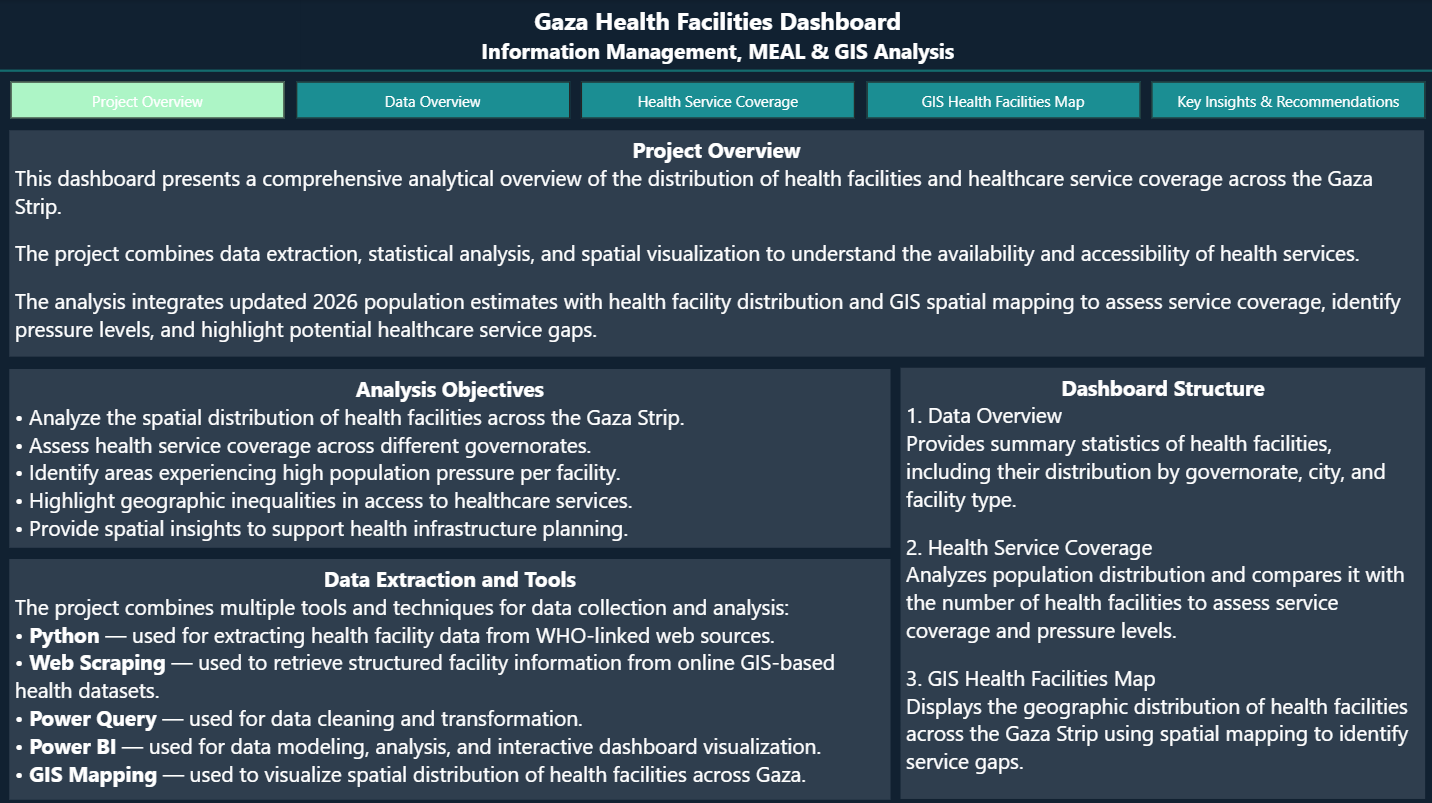

Layout of this report page (visuals, bound fields, positions):
{"tool":"powerbi","page":{"name":"Project Overview","canvas":[1280,720],"ordinal":0},"visuals":[{"type":"textbox","box":[269.7,0,743,64],"z":0},{"type":"shape","box":[0,54.7,1280.2,18.6],"z":1000},{"type":"textbox","box":[10.3,329,784.6,159.2],"z":2000},{"type":"textbox","box":[10.3,117.2,1259.7,201.6],"z":3000},{"type":"textbox","box":[803.9,328.7,467.4,383.9],"z":4000},{"type":"pageNavigator","box":[11.1,73.9,1260.1,33.4],"z":5000},{"type":"textbox","box":[10.3,498.2,784.6,214.4],"z":6000}]}

Visuals, with their boxes in screenshot pixels (x1, y1, x2, y2), scaled from the page's 1280x720 canvas onto the 1432x803 screenshot:
textbox: (x1=302, y1=0, x2=1133, y2=71)
shape: (x1=0, y1=61, x2=1431, y2=82)
textbox: (x1=12, y1=367, x2=889, y2=544)
textbox: (x1=12, y1=131, x2=1421, y2=356)
textbox: (x1=899, y1=367, x2=1422, y2=795)
pageNavigator: (x1=12, y1=82, x2=1422, y2=120)
textbox: (x1=12, y1=556, x2=889, y2=795)
